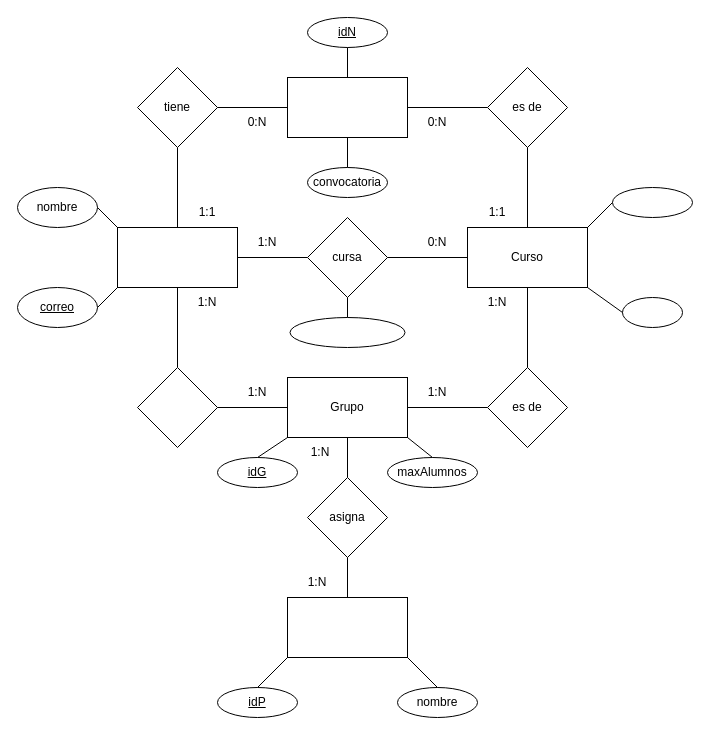
Some shapes in this 710 by 735 pixel diagram are drawn without their labels. The shapes that lost their labels are listed below. From the top down, each one's box as (x1, y1, x2, y2) in pixels, then its label:
(286, 76, 408, 138): Nota
(612, 186, 692, 218): idC
(116, 226, 238, 288): Alumno
(289, 316, 405, 348): fechaMatriculación
(622, 296, 682, 328): año
(136, 366, 218, 448): pertenece
(286, 596, 408, 658): Profesor
